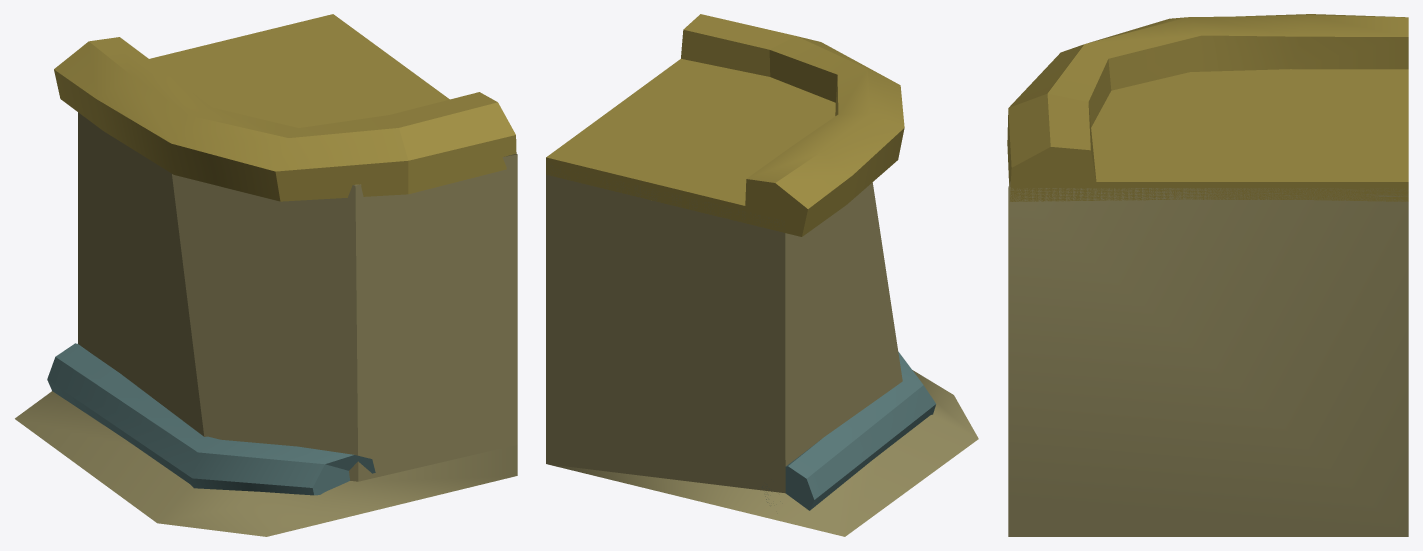
Rendered from Int_31_Corner_Block_Round_U_R.fbx.
3 views of the same model, side by side, from view 1: azimuth 30°, elevation 25°; view 2: azimuth 150°, elevation 25°; view 3: azimuth 270°, elevation 25° (orthographic). The views are drawn at different scales.
Parts seen in each view (by area): view 1: Int_31_Corner_Block_Round_U_R; view 2: Int_31_Corner_Block_Round_U_R; view 3: Int_31_Corner_Block_Round_U_R.
Boxes of the visible parts, x1,y1,x2,y2 form: Int_31_Corner_Block_Round_U_R: (15, 14, 517, 536); Int_31_Corner_Block_Round_U_R: (546, 14, 978, 536); Int_31_Corner_Block_Round_U_R: (1007, 14, 1408, 536).
Size of the model in its own units: 1 by 1.08 by 1.01.
